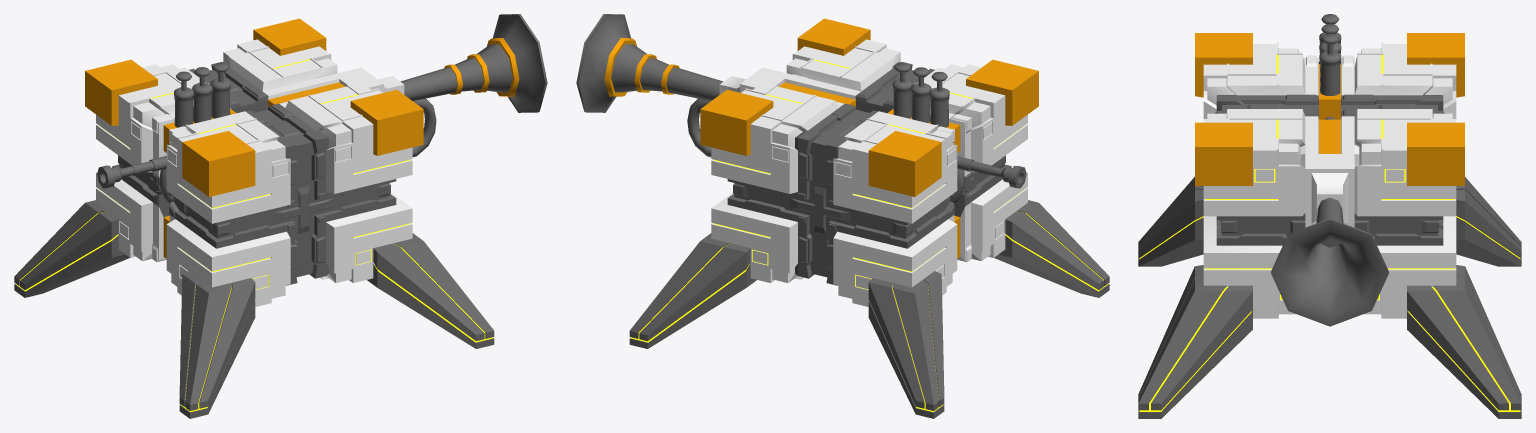
File: Cube Cannon.gltf
The picture shows the model from 3 angles, left to right: view 1: azimuth 30°, elevation 25°; view 2: azimuth 150°, elevation 25°; view 3: azimuth 270°, elevation 25°; orthographic projection. The views are drawn at different scales.
Parts seen in each view (by area): view 1: Casing low_poly; view 2: Casing low_poly; view 3: Casing low_poly.
Boxes of the visible parts, x1,y1,x2,y2 form: Casing low_poly: (14,14,547,418); Casing low_poly: (576,14,1109,418); Casing low_poly: (1138,14,1521,418).
Size of the model in its own units: 1.85 by 1.1 by 1.34.
